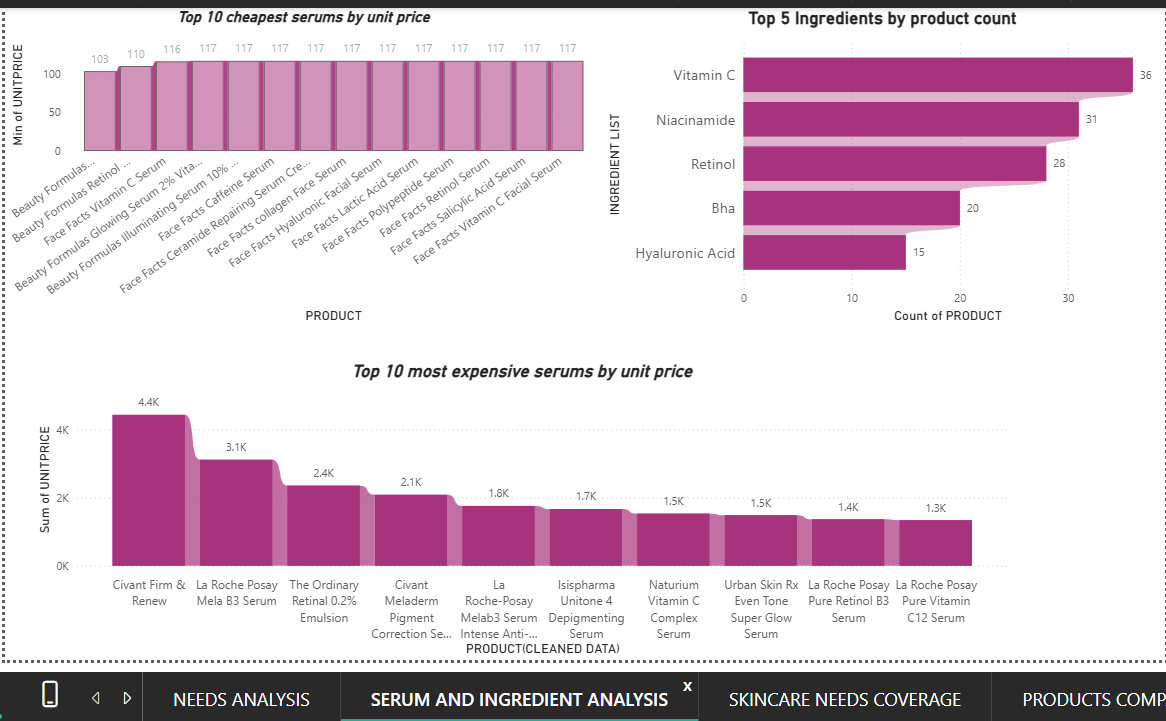

The dashboard page shown, as its layout file describes it:
{"tool":"powerbi","page":{"name":"SERUM AND INGREDIENT ANALYSIS","canvas":[1280,720],"ordinal":1},"visuals":[{"type":"columnChart","title":"Top 10 most expensive serums by unit price","fields":{"Category":["Retail Skincare Data Analysis.PRODUCT(CLEANED DATA)"],"Y":["Sum(Retail Skincare Data Analysis.UNITPRICE)"]},"box":[29.8,389.7,1082.4,330.3],"z":0},{"type":"columnChart","title":"Top 10 cheapest serums by unit price","fields":{"Category":["Retail Skincare Data Analysis.PRODUCT(CLEANED DATA)"],"Y":["Min(Retail Skincare Data Analysis.UNITPRICE)"]},"box":[0,0,659.5,351.5],"z":1000},{"type":"barChart","title":"Top 5 Ingredients by product count","fields":{"Category":["Retail Skincare Data Analysis.INGREDIENT LIST","Retail Skincare Data Analysis.PRODUCT(CLEANED DATA)"],"Y":["CountNonNull(Retail Skincare Data Analysis.PRODUCT(CLEANED DATA))"]},"box":[659.5,0,619.8,351.5],"z":2000}]}

Visuals, with their boxes on the page's 1280x720 design canvas (x1, y1, x2, y2). These are canvas units, not pixel positions in the 1166x721 screenshot, which may show the page scaled, cropped or inside an application window:
"Top 10 most expensive serums by unit price" columnChart: bbox=[30, 390, 1112, 720]
"Top 10 cheapest serums by unit price" columnChart: bbox=[0, 0, 660, 352]
"Top 5 Ingredients by product count" barChart: bbox=[660, 0, 1279, 352]
